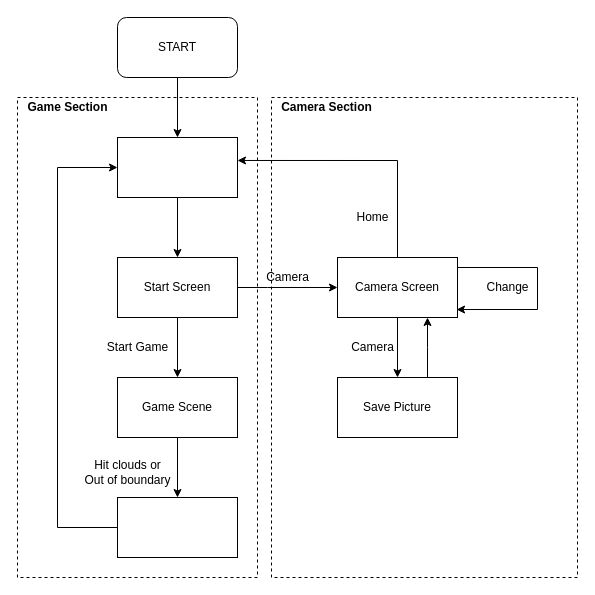
Image size: 595x595. Some labels were removed from this diagram. The box of each missing label's shape, as (x1, y1, x2, y2) in pixels:
Game Over Screen: (116, 496, 238, 558)
Loading: (116, 136, 238, 198)
